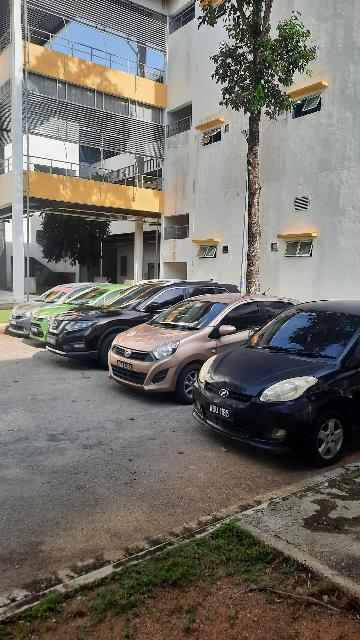License_Plate: (206, 398, 239, 424), (116, 360, 135, 373), (46, 334, 59, 346), (30, 328, 42, 335)
car: (191, 301, 359, 464), (108, 298, 300, 402), (23, 277, 240, 361)
